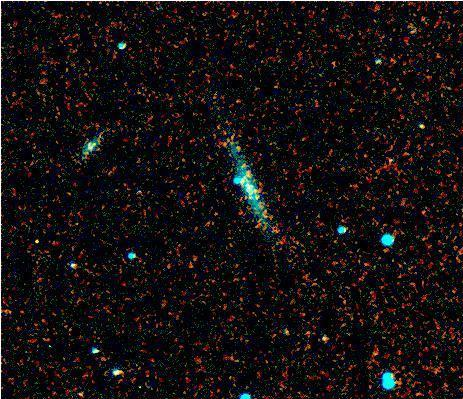star: (309, 326, 339, 356)
